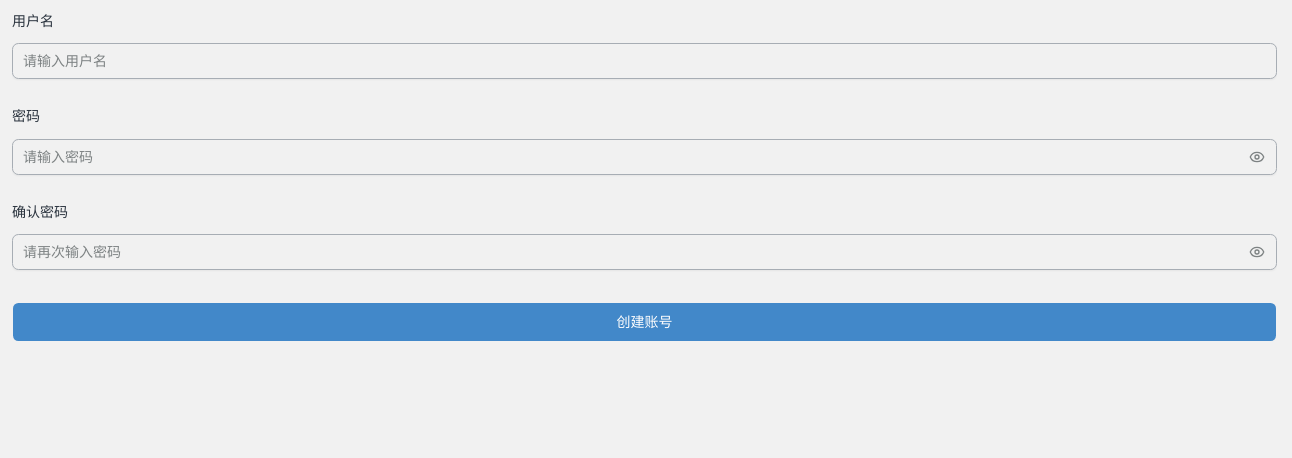
Scenario: RegisterForm › maps registration failures to login.registerErrorUsernameTaken
Type "new_user" into the field labelled "用户名" at (644, 61), box [12,43,1277,79]
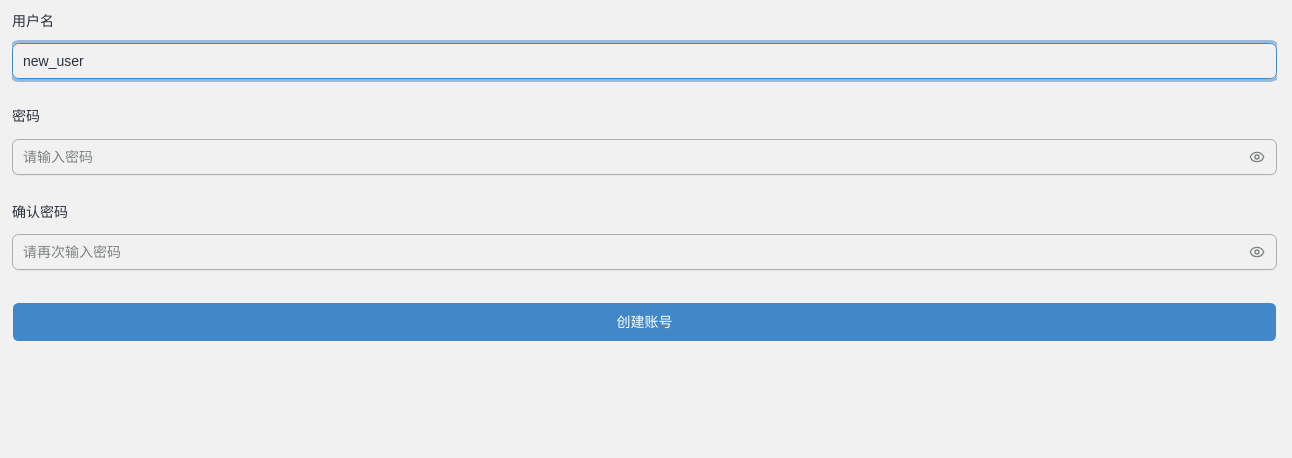
Type "Correct123!" into the password field labelled "密码" at (644, 156), box [12,138,1277,174]
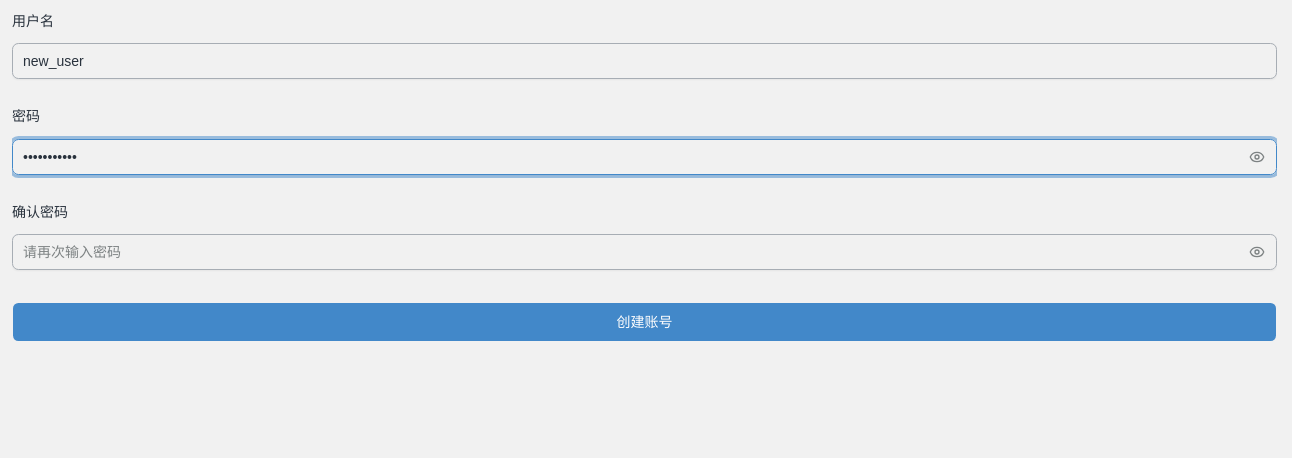
Type "Correct123!" into the password field labelled "确认密码" at (644, 252), box [12,234,1277,270]
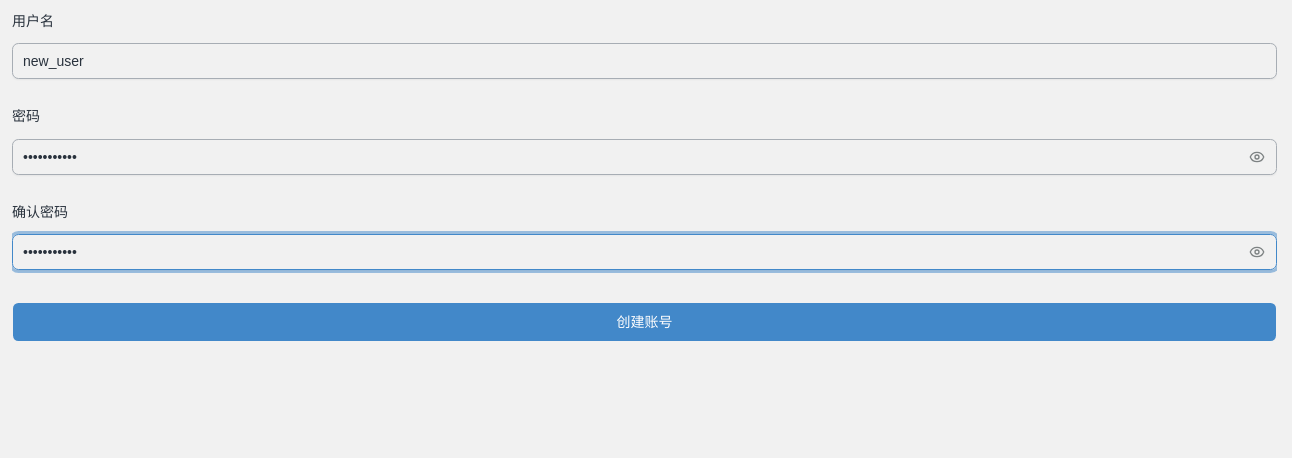
Click the button "创建账号" at (644, 322), box [12,302,1277,342]
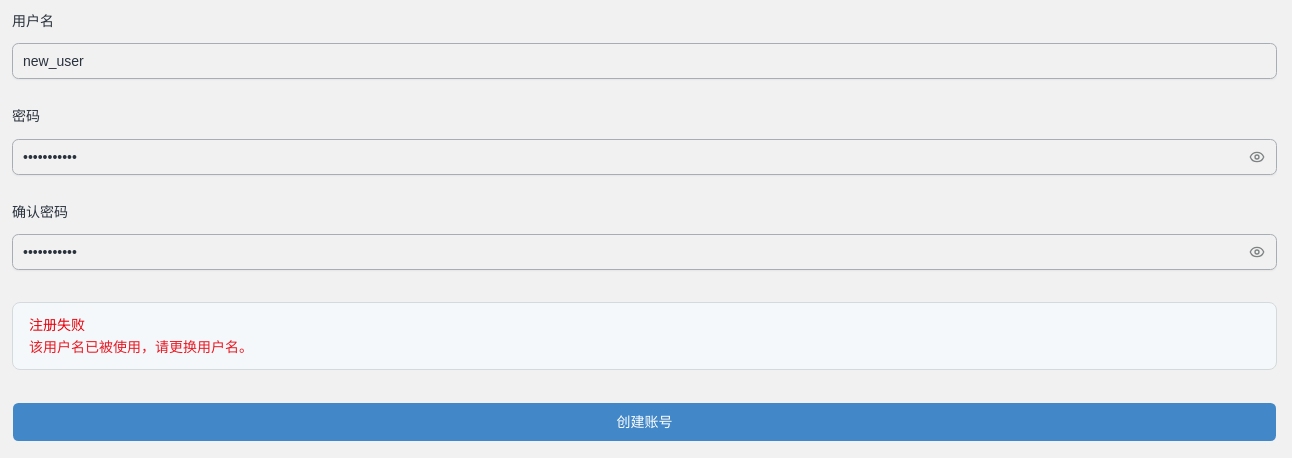
Expected: the text "注册失败" is shown, [29,317,85,333]
Expected: the text "该用户名已被使用，请更换用户名。" is shown, [29,339,253,355]
